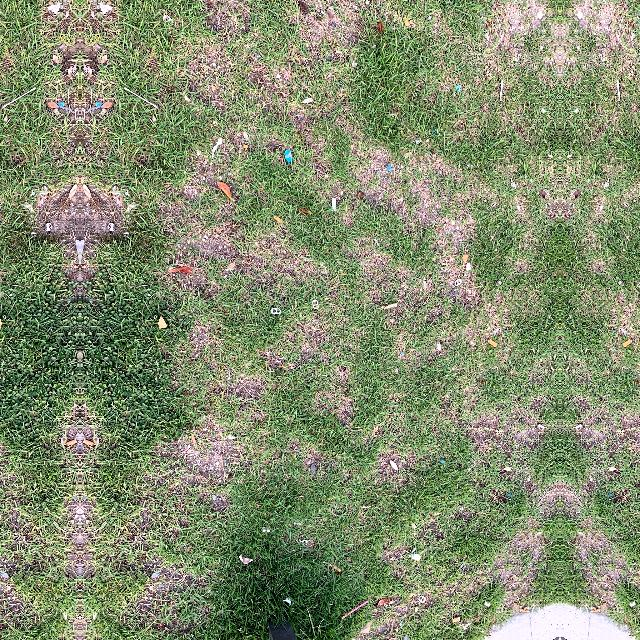Metal: (268, 306, 284, 316), (310, 297, 320, 311)
